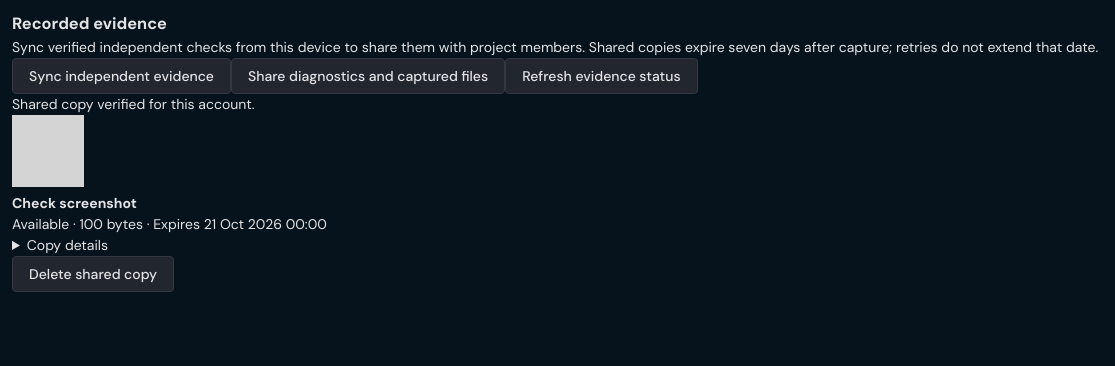
Private Run evidence availability › requires concrete deletion confirmation and preserves metadata after removal
Click the button "Delete shared copy" at (93, 274), box [12,256,174,292]
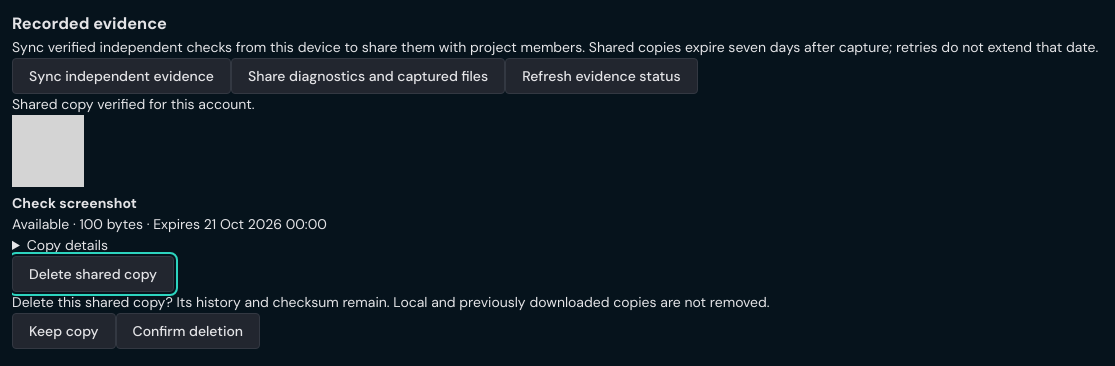
Result: the element named "Confirm shared-copy deletion" is shown at [12,293,770,349]
Click the button "Confirm deletion" at (188, 331), box [116,313,260,349]
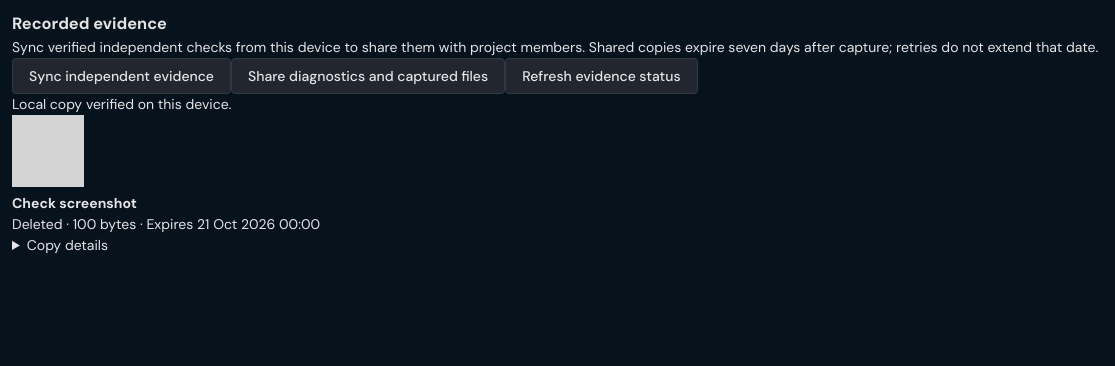
Result: the text "Deleted · 100 bytes · Expires 21 Oct 2026 00:00" is shown at [12,215,320,233]
